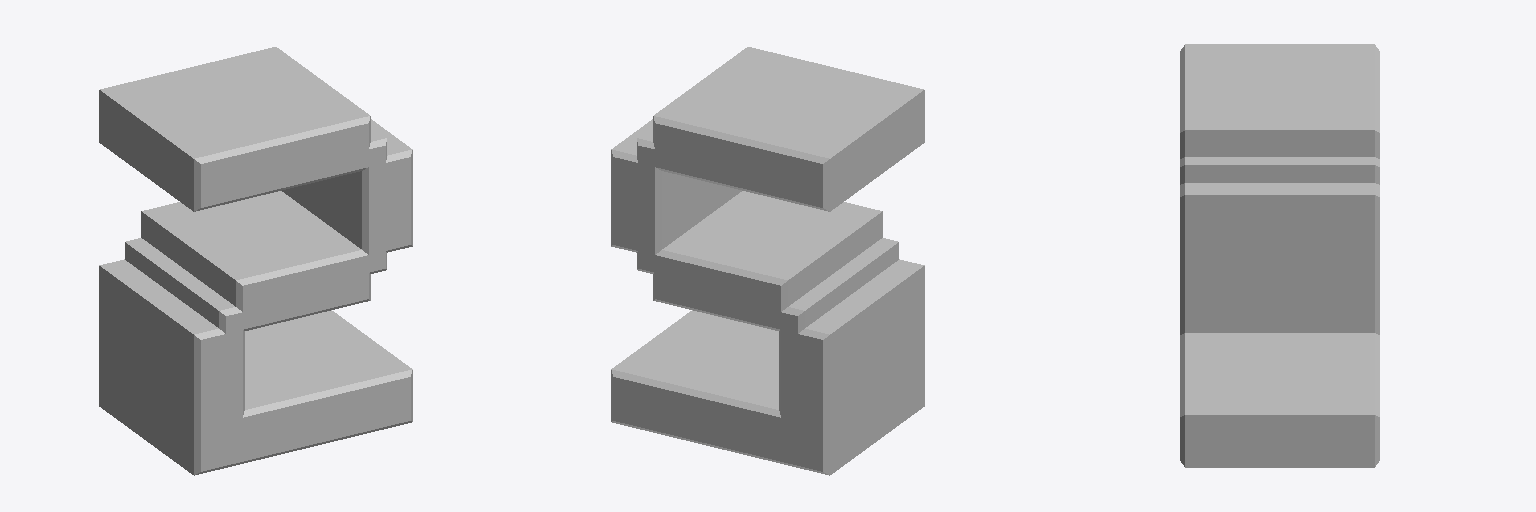
The model's file is trouble_one.obj.
3 renders of one model, left to right at view 1: azimuth 30°, elevation 25°; view 2: azimuth 150°, elevation 25°; view 3: azimuth 270°, elevation 25°, orthographic.
Parts seen in each view (by area): view 1: Text; view 2: Text; view 3: Text.
Boxes of the visible parts, x1,y1,x2,y2 form: Text: [99, 47, 412, 475]; Text: [611, 47, 924, 475]; Text: [1180, 44, 1379, 467].
Size of the model in its own units: 0.2003 by 0.2772 by 0.158.